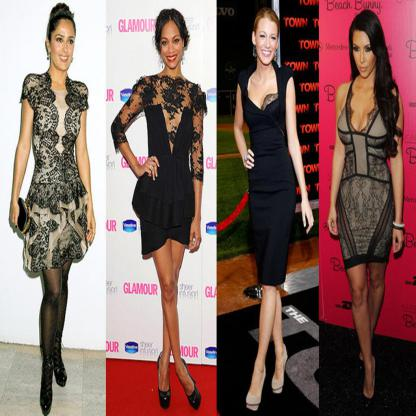face: (51, 16, 76, 70), (355, 26, 378, 78), (162, 20, 185, 69), (256, 19, 279, 65)
